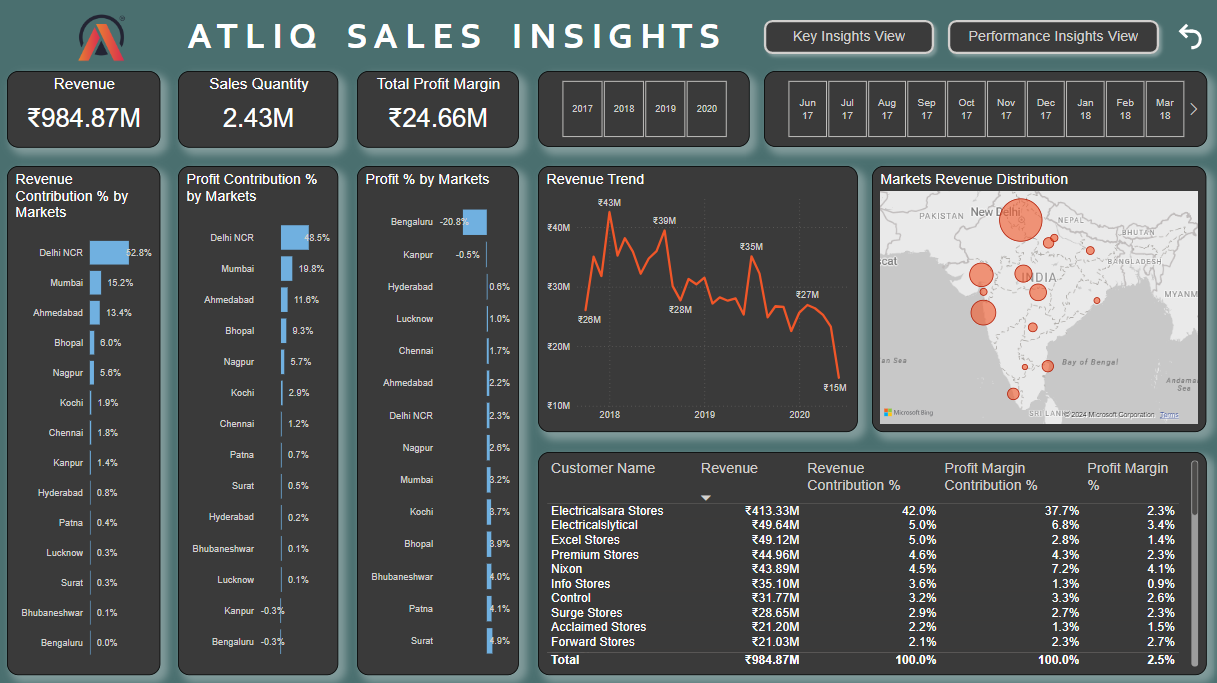

What the dashboard file says about the page in this screenshot:
{"tool":"powerbi","page":{"name":"Profit Analysis","canvas":[1600,900],"ordinal":1},"visuals":[{"type":"barChart","title":"Profit % by Markets","fields":{"Y":["BaseMeasures (2).Profit Margin %"],"Category":["sales markets.markets_name"]},"box":[472,217.3,210.7,664],"z":0},{"type":"image","box":[102.7,13.3,73.3,73.3],"z":1000},{"type":"barChart","title":"Profit Contribution % by Markets","fields":{"Y":["BaseMeasures (2).Profit Margin Contribution %"],"Category":["sales markets.markets_name"]},"box":[238.7,217.3,209.3,664],"z":2000},{"type":"actionButton","box":[993.6,18.3,239.9,62.6],"z":3000},{"type":"actionButton","box":[1233.6,18.3,293.4,62.6],"z":4000},{"type":"slicer","fields":{"Values":["sales date.year"]},"box":[708.1,93.9,276.4,99.1],"z":5000},{"type":"textbox","box":[102.7,13.3,1000,73.3],"z":6000},{"type":"slicer","fields":{"Values":["sales date.cy_date"]},"box":[1002.8,93.9,577.7,99.1],"z":7000},{"type":"tableEx","title":"Top 5 Customers","fields":{"Values":["sales customers.custmer_name","BaseMeasures (2).Revenue","BaseMeasures (2).Revenue Contribution %","BaseMeasures (2).Profit Margin Contribution %","BaseMeasures (2).Profit Margin %"]},"box":[708,590.7,872,290.7],"z":8000},{"type":"lineChart","title":"Revenue Trend","fields":{"Y":["BaseMeasures (2).Revenue"],"Category":["sales date.cy_date"]},"box":[708,217.3,417.3,346.7],"z":9000},{"type":"barChart","title":"Revenue Contribution % by Markets","fields":{"Y":["BaseMeasures (2).Revenue Contribution %"],"Category":["sales markets.markets_name"]},"box":[16,217.3,200,664],"z":10000},{"type":"map","title":"Markets Revenue Distribution","fields":{"Size":["BaseMeasures (2).Revenue"],"Category":["sales markets.markets_name"]},"box":[1144,217.3,436,346.7],"z":11000},{"type":"card","title":"Revenue","fields":{"Values":["BaseMeasures (2).Revenue"]},"box":[16,93.3,200,100],"z":12000},{"type":"card","title":"Sales Quantity","fields":{"Values":["BaseMeasures (2).Sales Qty"]},"box":[238.7,93.3,209.3,100],"z":13000},{"type":"card","title":"Total Profit Margin","fields":{"Values":["BaseMeasures (2).Total Profit Margin"]},"box":[472,93.3,210.7,100],"z":14000},{"type":"actionButton","box":[1537.4,26.1,43,45.6],"z":15000}]}

Visuals, with their boxes in screenshot pixels (x1, y1, x2, y2), scaled from the page's 1600x900 canvas onto the 1217x683 screenshot:
"Profit % by Markets" barChart: locate(359, 165, 519, 669)
image: locate(78, 10, 134, 66)
"Profit Contribution % by Markets" barChart: locate(182, 165, 341, 669)
actionButton: locate(756, 14, 938, 61)
actionButton: locate(938, 14, 1161, 61)
slicer - sales date.year: locate(539, 71, 749, 146)
textbox: locate(78, 10, 839, 66)
slicer - sales date.cy_date: locate(763, 71, 1202, 146)
"Top 5 Customers" tableEx: locate(539, 448, 1202, 669)
"Revenue Trend" lineChart: locate(539, 165, 856, 428)
"Revenue Contribution % by Markets" barChart: locate(12, 165, 164, 669)
"Markets Revenue Distribution" map: locate(870, 165, 1202, 428)
"Revenue" card: locate(12, 71, 164, 147)
"Sales Quantity" card: locate(182, 71, 341, 147)
"Total Profit Margin" card: locate(359, 71, 519, 147)
actionButton: locate(1169, 20, 1202, 54)
